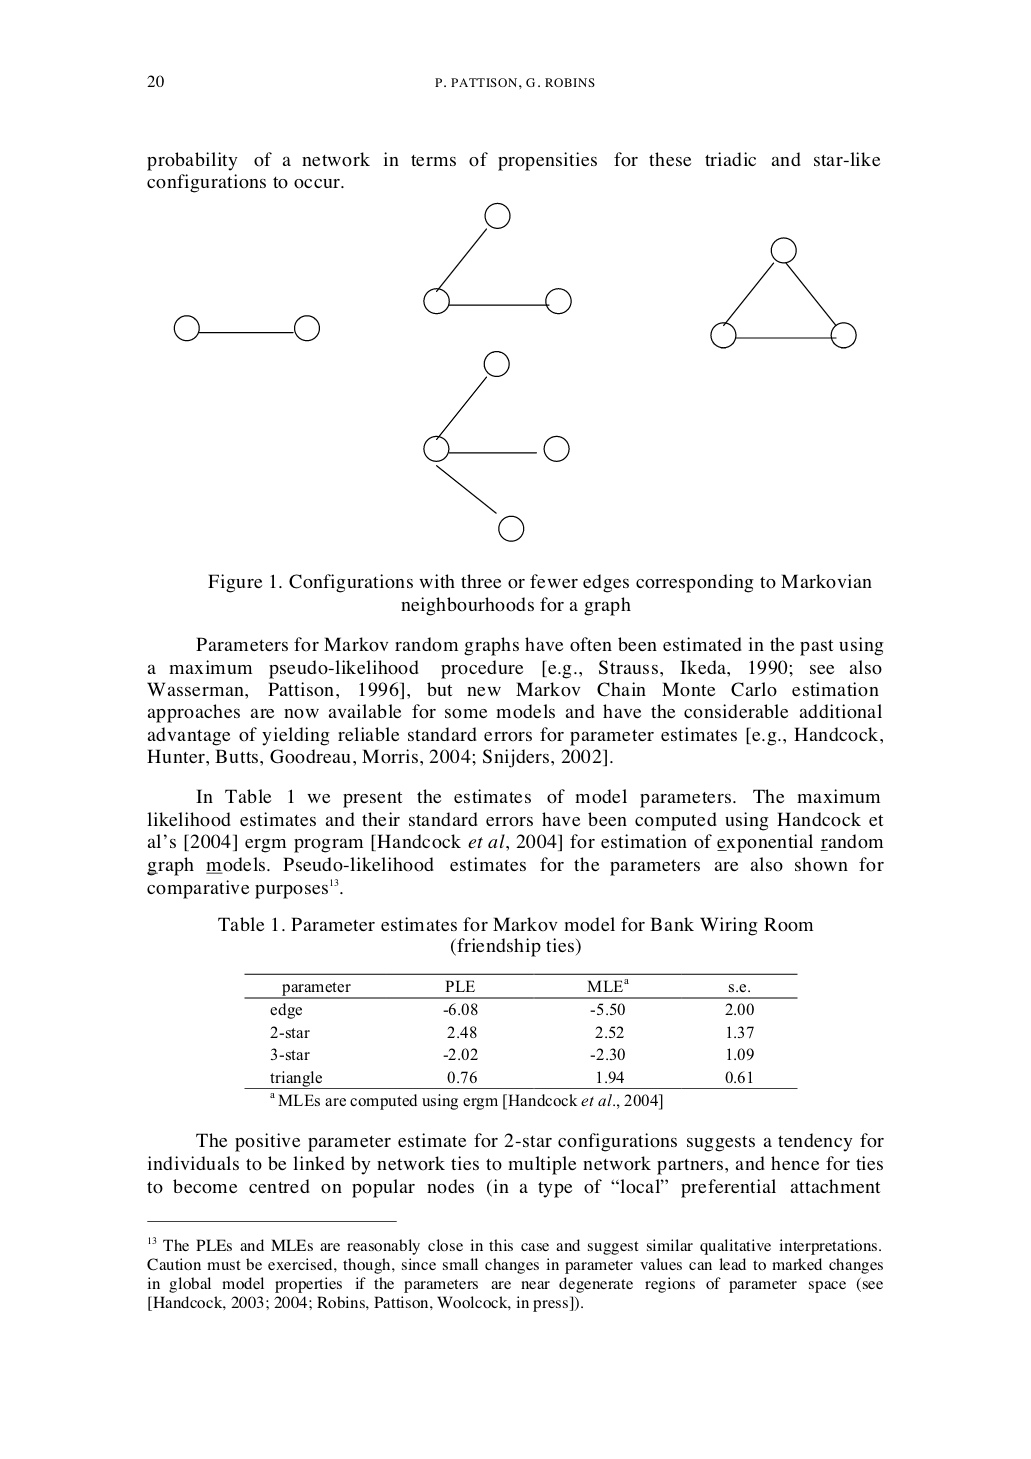Table: (244, 973, 797, 1109)
figure: (423, 351, 569, 541), (423, 202, 571, 315), (710, 236, 856, 348), (173, 315, 319, 341)
